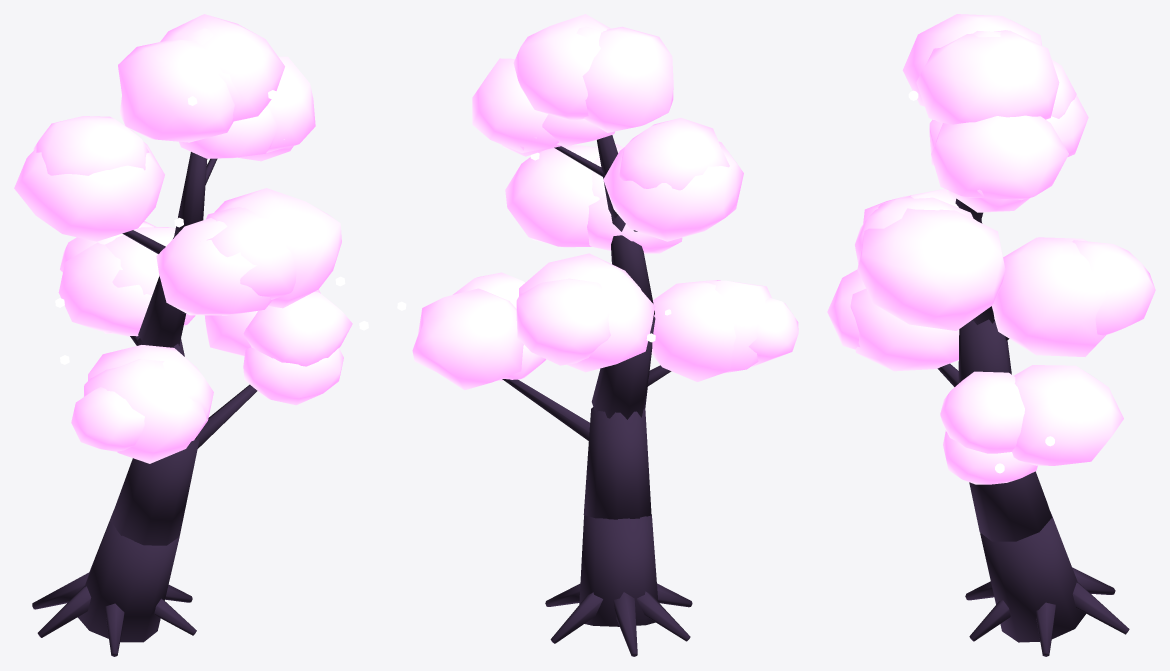
Rendered from boss_lair_tree_sakura.glb.
The picture shows the model from 3 angles, left to right: view 1: azimuth 30°, elevation 25°; view 2: azimuth 150°, elevation 25°; view 3: azimuth 270°, elevation 25°; orthographic projection. The views are drawn at different scales.
Parts seen in each view (by area): view 1: Cone; view 2: Cone; view 3: Cone.
Part boxes in pixels (box(x1,y1,x2,y2)): Cone: box(14, 14, 368, 656); Cone: box(397, 14, 798, 656); Cone: box(827, 14, 1155, 656).
Size of the model in its own units: 8.69 by 14.63 by 6.94.
